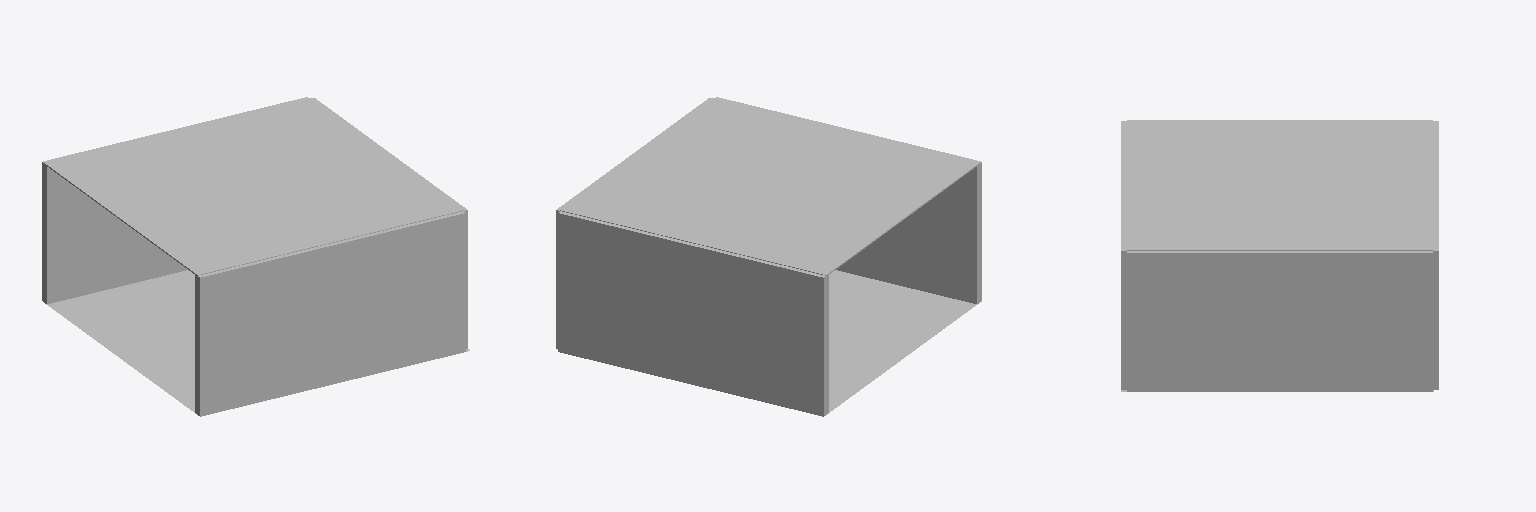
Rendered from Дом (6).obj.
The picture shows the model from 3 angles: view 1: azimuth 30°, elevation 25°; view 2: azimuth 150°, elevation 25°; view 3: azimuth 270°, elevation 25°; orthographic projection.
Visible parts, largest first — view 1: Cube_Cube.004, Cube.001_Cube.002, Cube.003_Cube.001, Plane, Cube.002_Cube.003; view 2: Cube_Cube.004, Cube.003_Cube.001, Cube.001_Cube.002, Plane, Cube.002_Cube.003; view 3: Cube.002_Cube.003, Cube_Cube.004, Cube.001_Cube.002, Cube.003_Cube.001.
Boxes of the visible parts, x1,y1,x2,y2 form: Cube_Cube.004: [44, 98, 463, 275]; Cube.001_Cube.002: [195, 211, 465, 416]; Cube.003_Cube.001: [42, 97, 307, 303]; Plane: [46, 270, 469, 413]; Cube.002_Cube.003: [311, 98, 467, 348]; Cube_Cube.004: [560, 98, 979, 275]; Cube.003_Cube.001: [558, 211, 828, 416]; Cube.001_Cube.002: [716, 97, 981, 303]; Plane: [557, 270, 981, 413]; Cube.002_Cube.003: [556, 98, 712, 348]; Cube.002_Cube.003: [1127, 251, 1432, 391]; Cube_Cube.004: [1127, 120, 1432, 250]; Cube.001_Cube.002: [1121, 121, 1126, 389]; Cube.003_Cube.001: [1433, 121, 1438, 389].
Size of the model in its own units: 6.1 by 3.02 by 6.2.